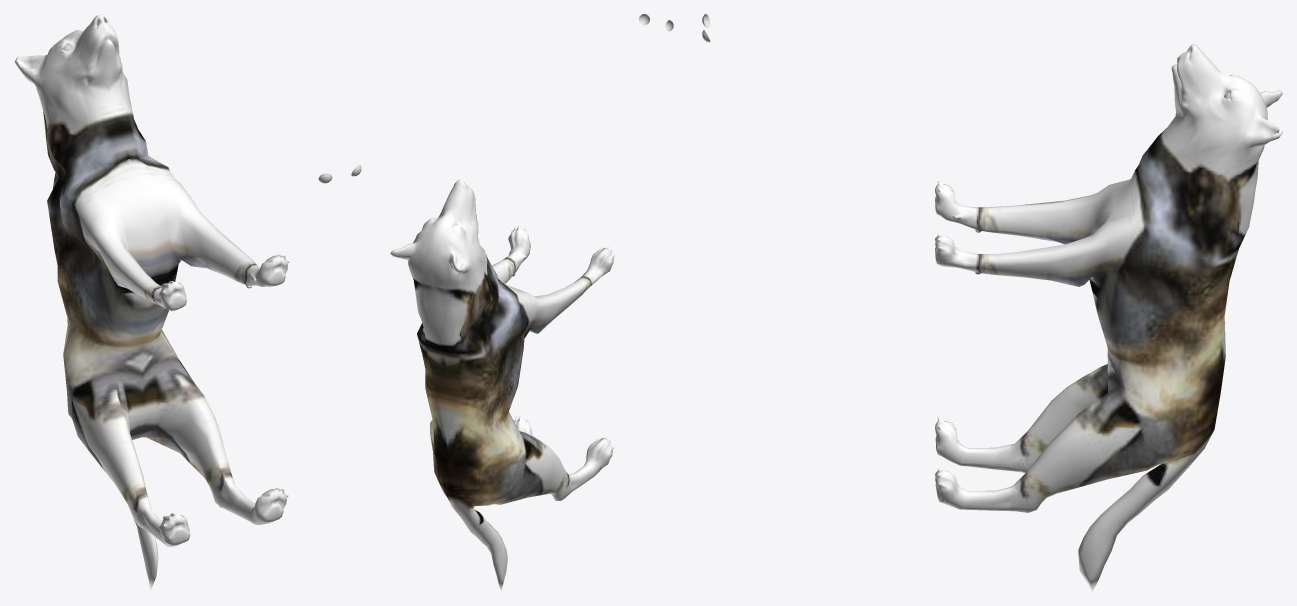
The model's file is wolf.fbx.
The picture shows the model from 3 angles, left to right: view 1: azimuth 30°, elevation 25°; view 2: azimuth 150°, elevation 25°; view 3: azimuth 270°, elevation 25°; orthographic projection. The views are drawn at different scales.
Visible parts, largest first — view 1: wolf; view 2: wolf; view 3: wolf.
Boxes of the visible parts, x1=… form: wolf: x1=14, y1=14, x2=289, y2=591; wolf: x1=390, y1=179, x2=614, y2=591; wolf: x1=935, y1=44, x2=1282, y2=591.
Size of the model in its own units: 0.4001 by 1.7 by 1.57.
